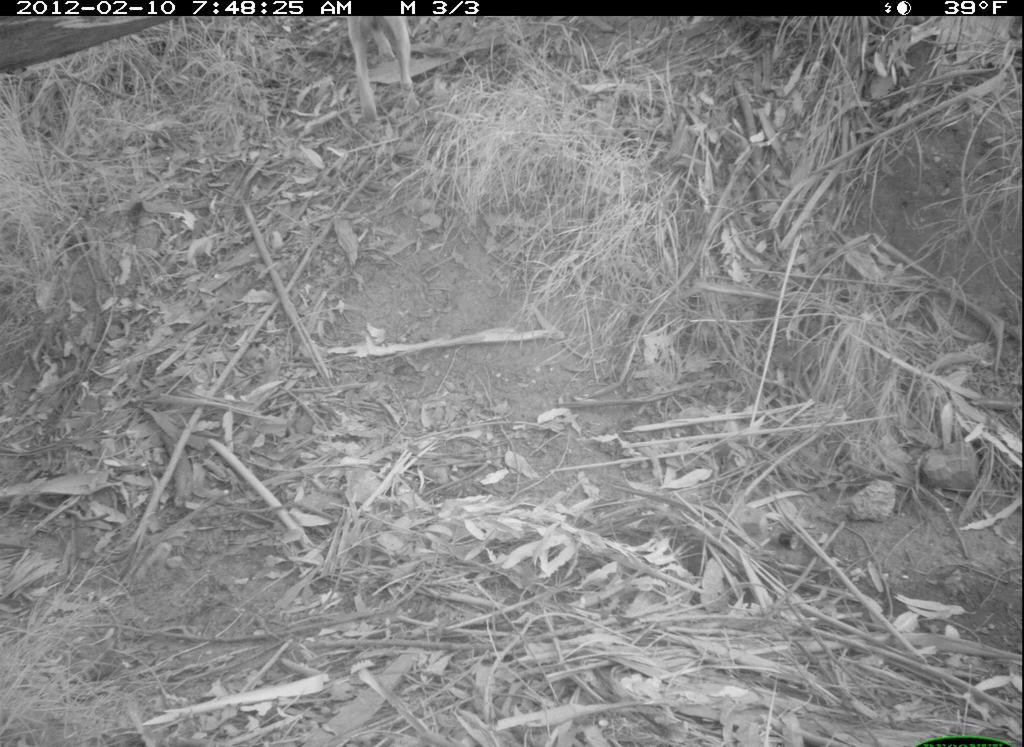dog: (335, 15, 437, 134)
